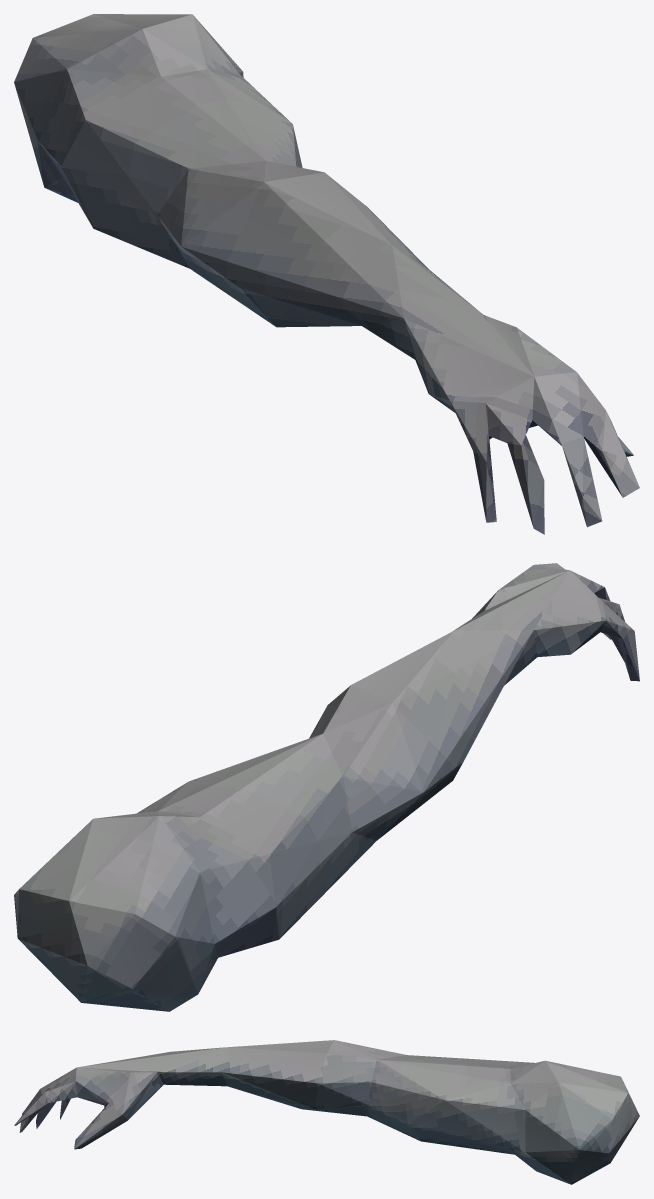
File: item_mannequin_arm_right.glb
3 renders of one model, top to bottom at view 1: azimuth 30°, elevation 25°; view 2: azimuth 150°, elevation 25°; view 3: azimuth 270°, elevation 25°, orthographic. The views are drawn at different scales.
Parts seen in each view (by area): view 1: arms_LP; view 2: arms_LP; view 3: arms_LP.
Boxes of the visible parts, <box> form: arms_LP: <box>14,14,639,534</box>; arms_LP: <box>14,563,639,1011</box>; arms_LP: <box>14,1040,639,1184</box>.
Size of the model in its own units: 0.2329 by 0.175 by 0.8809.
1 material, 1 textured.
